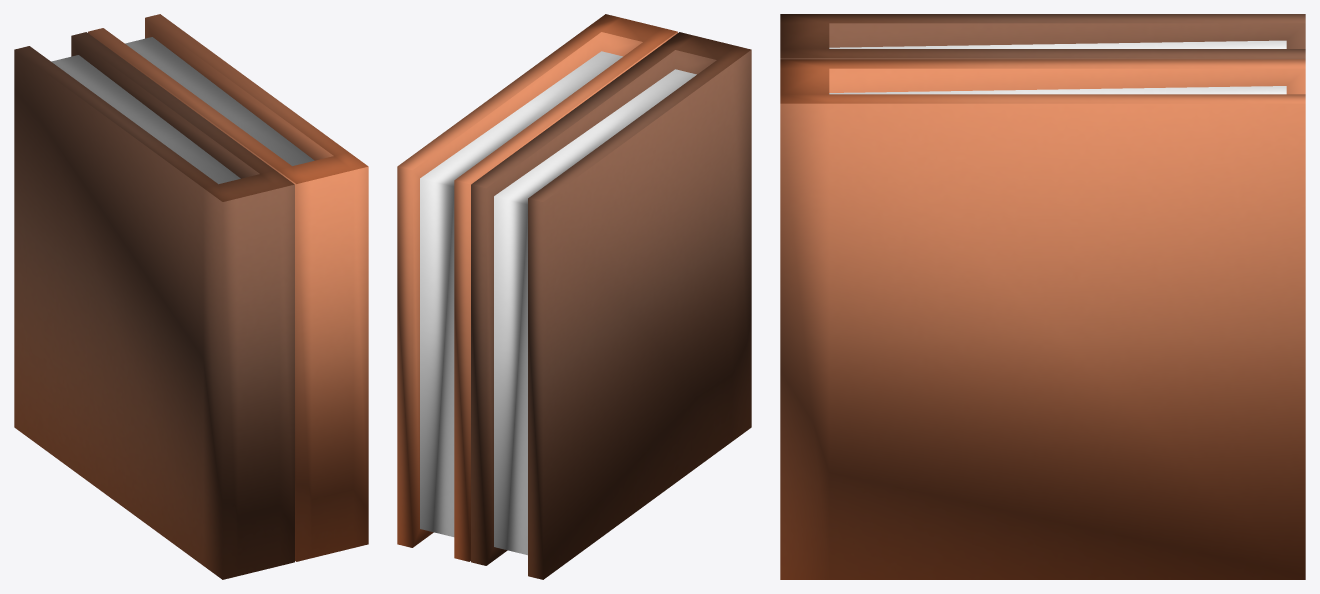
File: Props_Book_03.fbx
3 views of the same model, side by side, from view 1: azimuth 30°, elevation 25°; view 2: azimuth 150°, elevation 25°; view 3: azimuth 270°, elevation 25° (orthographic). The views are drawn at different scales.
Parts seen in each view (by area): view 1: Props_Book_03; view 2: Props_Book_03; view 3: Props_Book_03.
Boxes of the visible parts, x1,y1,x2,y2 form: Props_Book_03: (14, 14, 368, 579); Props_Book_03: (397, 14, 751, 579); Props_Book_03: (780, 14, 1305, 579).
Size of the model in its own units: 20.46 by 50.6 by 50.6.
